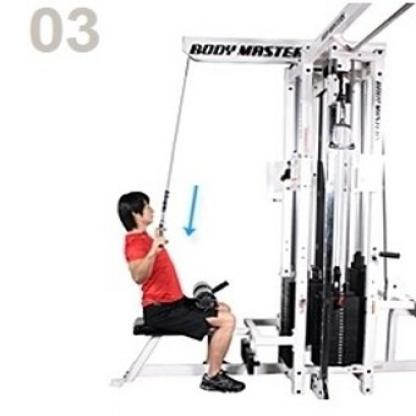Lat Pull Down: (91, 0, 416, 407)
